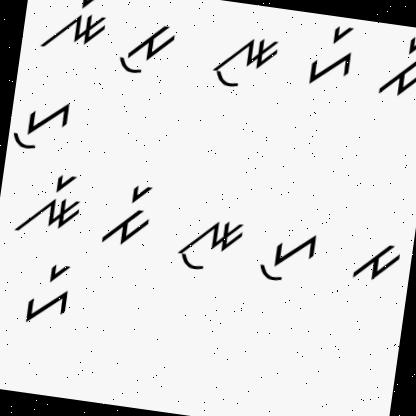har: (16, 251, 78, 332), (306, 20, 362, 93)
haw: (10, 92, 78, 160), (254, 224, 322, 290)
mba: (344, 226, 407, 289)
mbar: (99, 176, 158, 255), (375, 26, 416, 107)
mbaw: (111, 5, 180, 89)
ndar: (12, 165, 89, 243), (33, 0, 116, 65)
ndaw: (206, 24, 282, 96), (174, 205, 246, 278)
